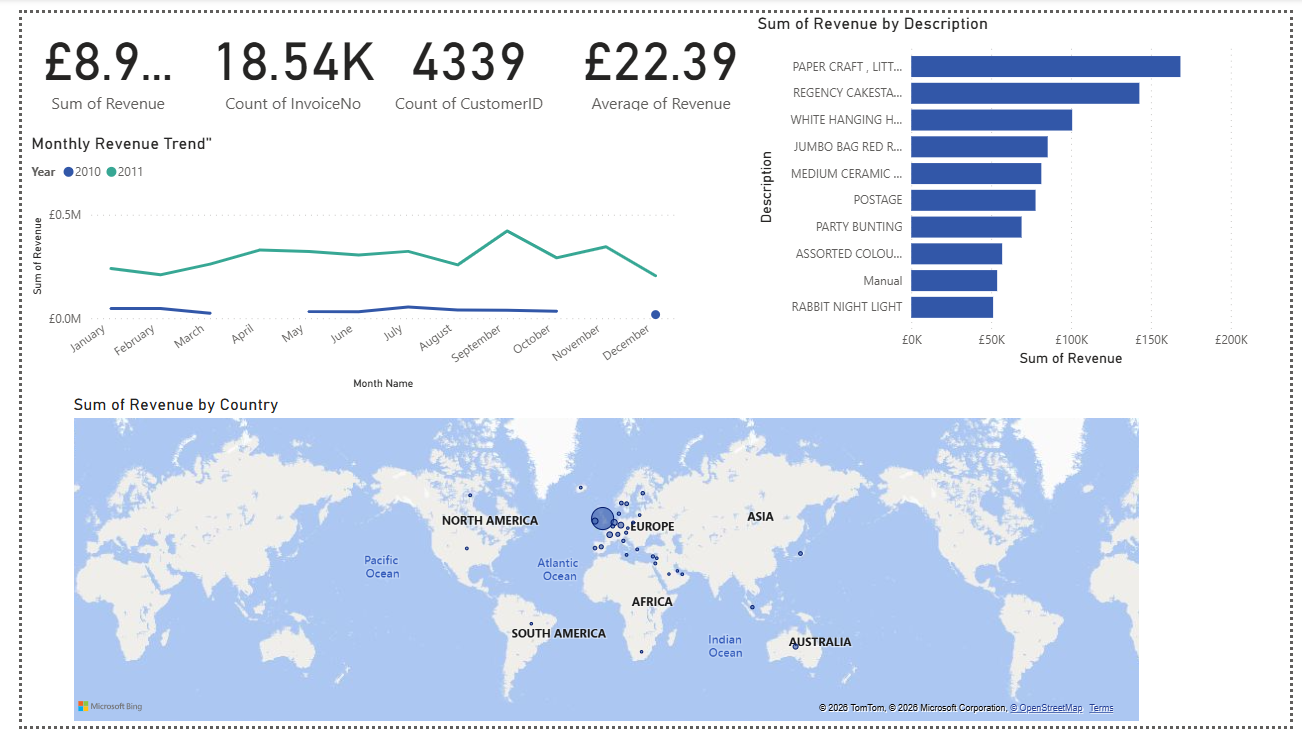

The page's visual inventory and layout, read from the dashboard file:
{"tool":"powerbi","page":{"name":"Executive Summary","canvas":[1280,720],"ordinal":0},"visuals":[{"type":"card","fields":{"Values":["Sum(data.Revenue)"]},"box":[9.7,0,155.3,103.5],"z":0},{"type":"card","fields":{"Values":["Count(data.InvoiceNo)"]},"box":[165,0,216.8,103.5],"z":1000},{"type":"card","fields":{"Values":["Count(data.CustomerID)"]},"box":[360.8,0,181.2,103.5],"z":2000},{"type":"card","fields":{"Values":["Avg(data.Revenue)"]},"box":[529.1,0,233,103.5],"z":3000},{"type":"lineChart","title":"Monthly Revenue Trend\"","fields":{"Y":["Sum(data.Revenue)"],"Series":["data.Year"],"Category":["data.Month Name"]},"box":[4.8,121.3,660.1,263.7],"z":4000},{"type":"clusteredBarChart","fields":{"Category":["data.Description"],"Y":["Sum(data.Revenue)"]},"box":[737.8,0,504.8,360.8],"z":5000},{"type":"map","fields":{"Category":["data.Country"],"Size":["Sum(data.Revenue)"]},"box":[46.9,385.1,1085.7,334.9],"z":6000}]}

Visuals, with their boxes in screenshot pixels (x1, y1, x2, y2), scaled from the page's 1280x720 canvas onto the 1302x735 screenshot:
card - Sum(data.Revenue): <box>10,0,168,106</box>
card - Count(data.InvoiceNo): <box>168,0,388,106</box>
card - Count(data.CustomerID): <box>367,0,551,106</box>
card - Avg(data.Revenue): <box>538,0,775,106</box>
"Monthly Revenue Trend"" lineChart: <box>5,124,676,393</box>
clusteredBarChart - data.Description x Sum(data.Revenue): <box>750,0,1264,368</box>
map - data.Country x Sum(data.Revenue): <box>48,393,1152,734</box>
